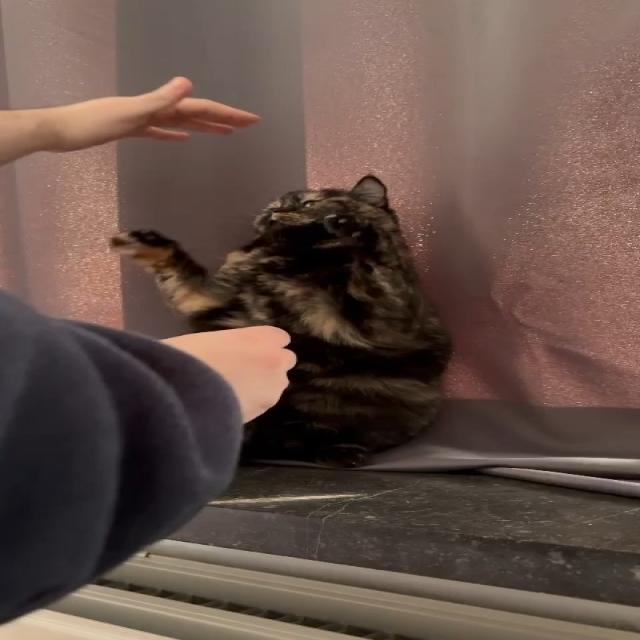authorized: (107, 173, 454, 469)
